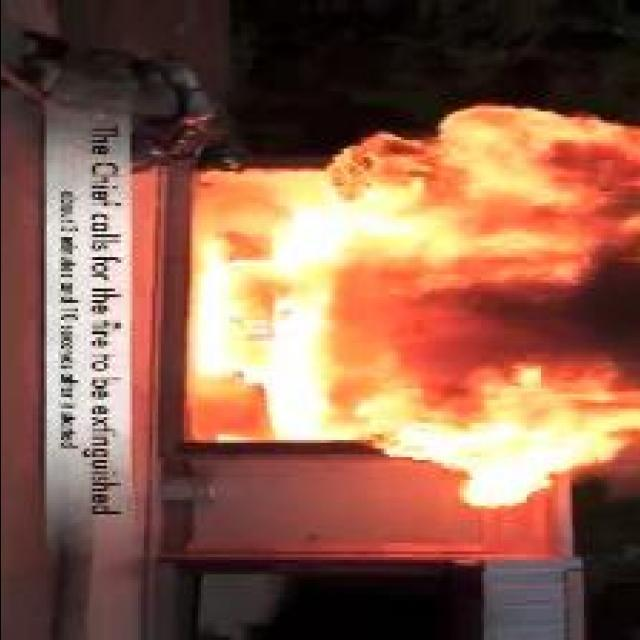Fire: (196, 106, 638, 508)
